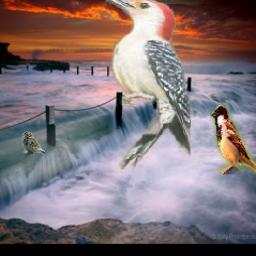Sparrow: (210, 104, 256, 174), (21, 131, 45, 155)
Woodpecker: (96, 0, 192, 169)
